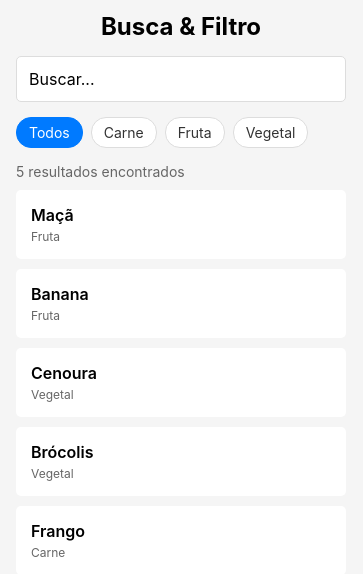
it: Componente SearchFilter › filtra itens por categoria
The width and height of the screenshot is (363, 574).
Click the element with test id "category-Fruta".
click(195, 132)  # box [165,117,225,148]
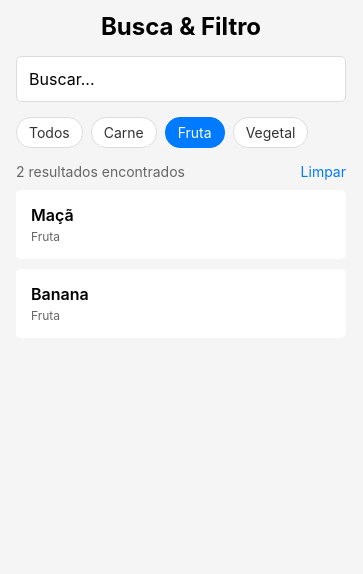
Now the element with test id "item-3" is gone
Now the element with test id "item-4" is gone
Now the element with test id "item-5" is gone
